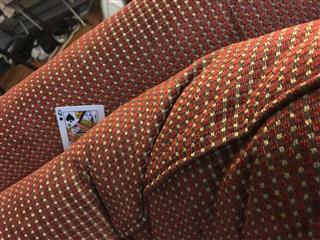QueenOfSpades: (53, 103, 104, 152)
